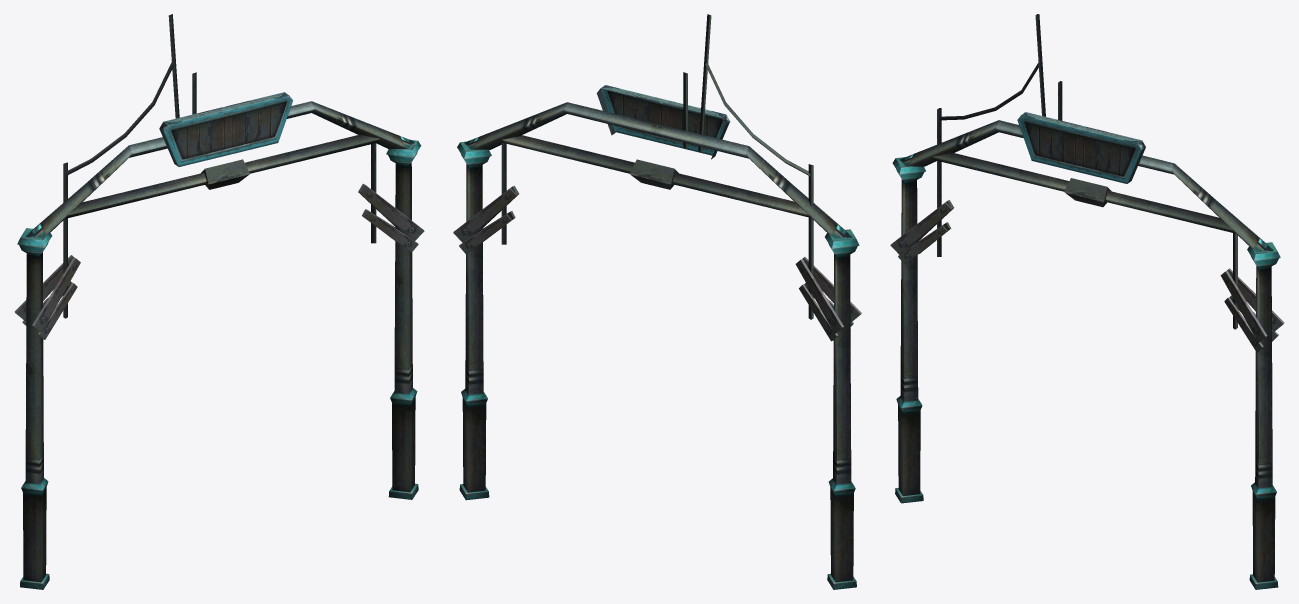
The model's file is yw_huanghunbianjing_xiaomen01.FBX.
The picture shows the model from 3 angles, left to right: view 1: azimuth 30°, elevation 25°; view 2: azimuth 150°, elevation 25°; view 3: azimuth 330°, elevation 25°; orthographic projection. The views are drawn at different scales.
Visible parts, largest first — view 1: yw_huanghunbianjing_xiaomen01; view 2: yw_huanghunbianjing_xiaomen01; view 3: yw_huanghunbianjing_xiaomen01.
Part boxes in pixels (<box>): yw_huanghunbianjing_xiaomen01: <box>14,14,424,589</box>; yw_huanghunbianjing_xiaomen01: <box>453,14,861,589</box>; yw_huanghunbianjing_xiaomen01: <box>890,14,1284,589</box>.
Bounding box in the file's own units: 259 × 329 × 22.86.
